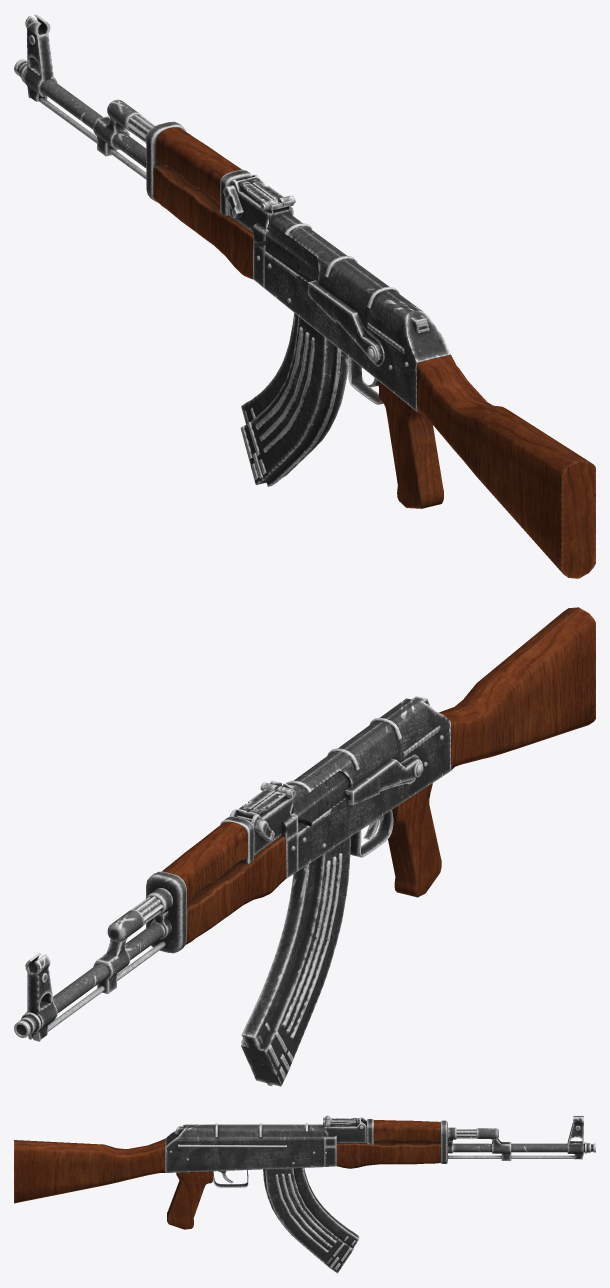
The model's file is kalashnikov.glb.
3 renders of one model, top to bottom at view 1: azimuth 30°, elevation 25°; view 2: azimuth 150°, elevation 25°; view 3: azimuth 270°, elevation 25°, orthographic. The views are drawn at different scales.
Visible parts, largest first — view 1: Kalashnikov; view 2: Kalashnikov; view 3: Kalashnikov.
Part boxes in pixels (x1,y1,x2,y2): Kalashnikov: (14, 14, 595, 578); Kalashnikov: (14, 607, 595, 1086); Kalashnikov: (14, 1115, 595, 1273).
Size of the model in its own units: 0.0401 by 0.2363 by 0.8006.
Materials: 1 (1 with a texture image).
